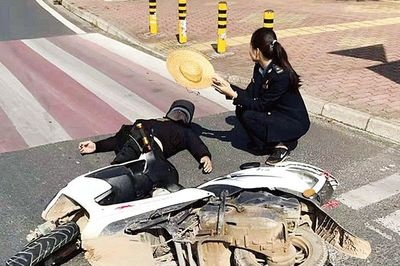falling: (62, 86, 222, 210)
